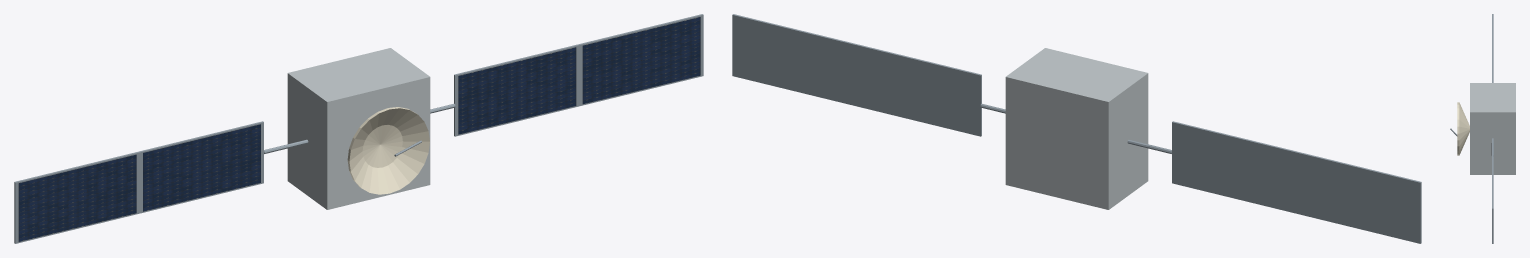
The model's file is ref-muses-b-24720.glb.
The picture shows the model from 3 angles, left to right: view 1: azimuth 30°, elevation 25°; view 2: azimuth 150°, elevation 25°; view 3: azimuth 270°, elevation 25°; orthographic projection. The views are drawn at different scales.
Parts seen in each view (by area): view 1: Photovoltaic laminates (×4), Spacecraft body, Reflector dish, Array frame (×4); view 2: Array frame (×4), Spacecraft body; view 3: Spacecraft body, Reflector dish, Array frame (×4).
Part boxes in pixels (left/top/right/bottom): Photovoltaic laminates (×4): left=18, top=17, right=700, bottom=241; Spacecraft body: left=287, top=48, right=430, bottom=209; Reflector dish: left=347, top=107, right=429, bottom=194; Array frame (×4): left=14, top=14, right=703, bottom=243; Array frame (×4): left=732, top=14, right=1421, bottom=243; Spacecraft body: left=1005, top=48, right=1148, bottom=209; Spacecraft body: left=1470, top=83, right=1515, bottom=174; Reflector dish: left=1457, top=102, right=1469, bottom=155; Array frame (×4): left=1492, top=14, right=1493, bottom=243.
Bounding box in the file's own units: 10 × 1.5 × 1.43.
4 materials, 1 textured.
